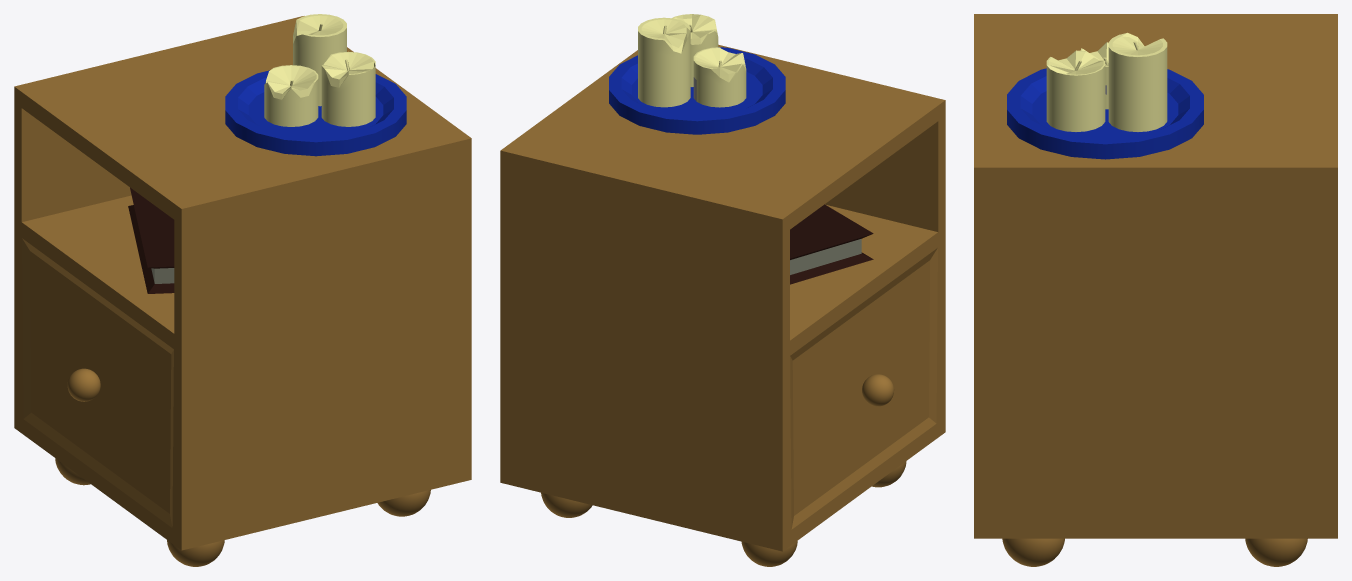
The model's file is Side Table.fbx.
3 views of the same model, side by side, from view 1: azimuth 30°, elevation 25°; view 2: azimuth 150°, elevation 25°; view 3: azimuth 270°, elevation 25° (orthographic). The views are drawn at different scales.
Parts seen in each view (by area): view 1: Side Table, Candles, Book; view 2: Side Table, Candles, Book; view 3: Side Table, Candles.
Part boxes in pixels (box(x1,y1,x2,y2)): Side Table: box(14, 16, 471, 566); Candles: box(225, 14, 406, 156); Book: box(128, 187, 174, 293); Side Table: box(500, 44, 945, 566); Candles: box(609, 14, 785, 134); Book: box(790, 204, 873, 284); Side Table: box(974, 14, 1337, 566); Candles: box(1007, 32, 1203, 159).
Size of the model in its own units: 43.93 by 61.15 by 40.
